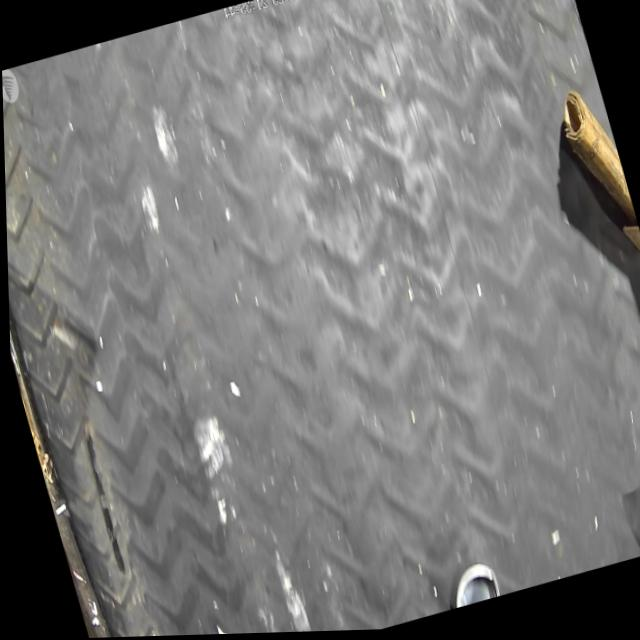can: (435, 558, 498, 612), (635, 499, 640, 556)
